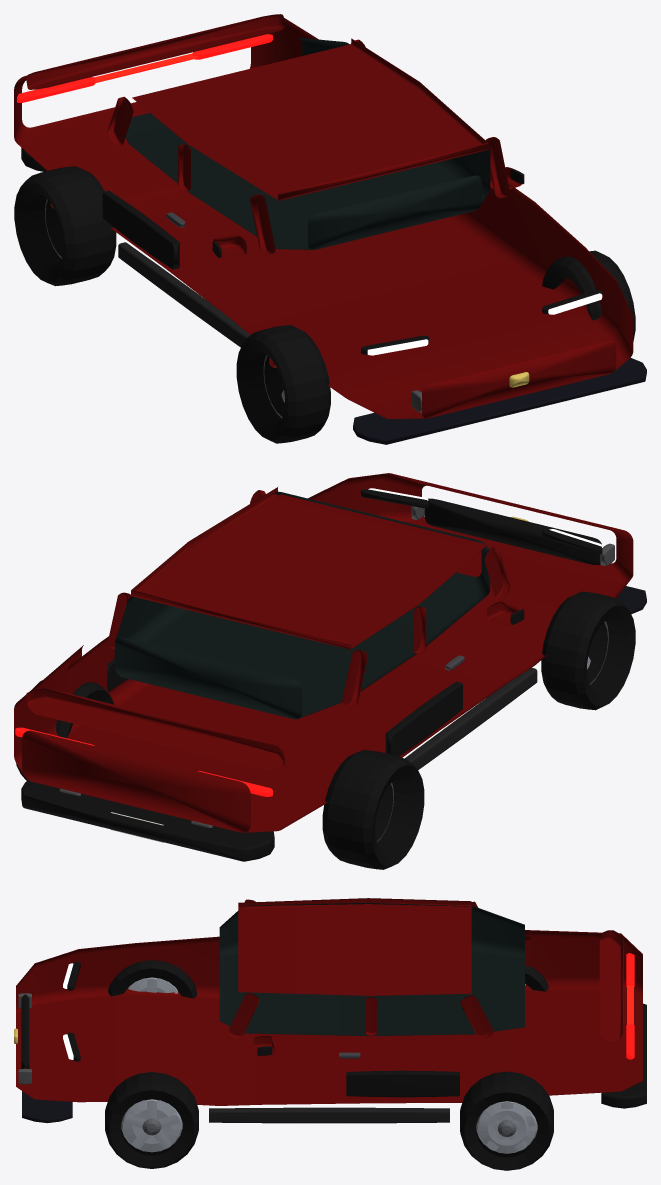
Rendered from ferrari_daytona_sp3.glb.
3 renders of one model, top to bottom at view 1: azimuth 30°, elevation 25°; view 2: azimuth 150°, elevation 25°; view 3: azimuth 270°, elevation 25°, orthographic. The views are drawn at different scales.
Parts seen in each view (by area): view 1: root, wheelRL, wheelFL, wheelFR; view 2: root, wheelRL, wheelFL, wheelRR; view 3: root, wheelRR, wheelFR, wheelFL, wheelRL.
Part boxes in pixels (x1,y1,x2,y2): root: (14, 14, 646, 444); wheelRL: (14, 166, 116, 286); wheelFL: (236, 325, 330, 443); wheelFR: (542, 250, 635, 341); root: (14, 473, 646, 861); wheelRL: (322, 750, 424, 869); wheelFL: (541, 591, 635, 710); wheelRR: (16, 680, 114, 780); root: (14, 898, 646, 1123); wheelRR: (460, 1071, 553, 1170); wheelFR: (105, 1072, 198, 1168); wheelFL: (108, 960, 197, 998); wheelRL: (525, 965, 548, 991).
Size of the model in its own units: 2.53 by 1.31 by 4.72.
